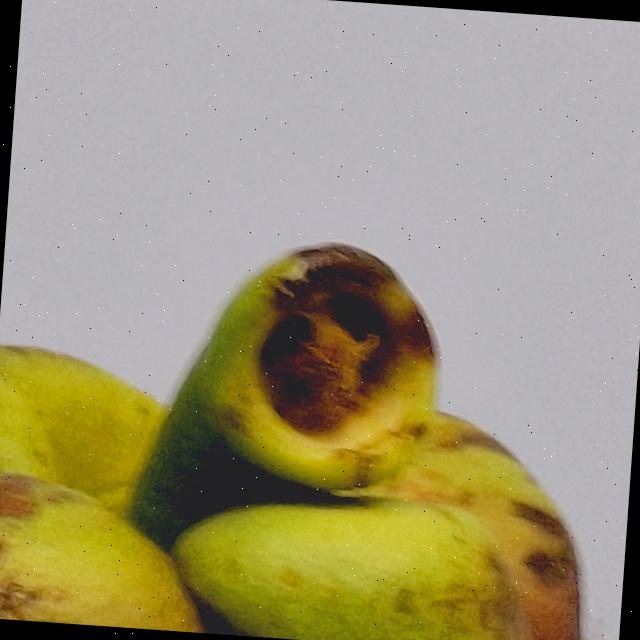mangosteen: (0, 187, 640, 640)
